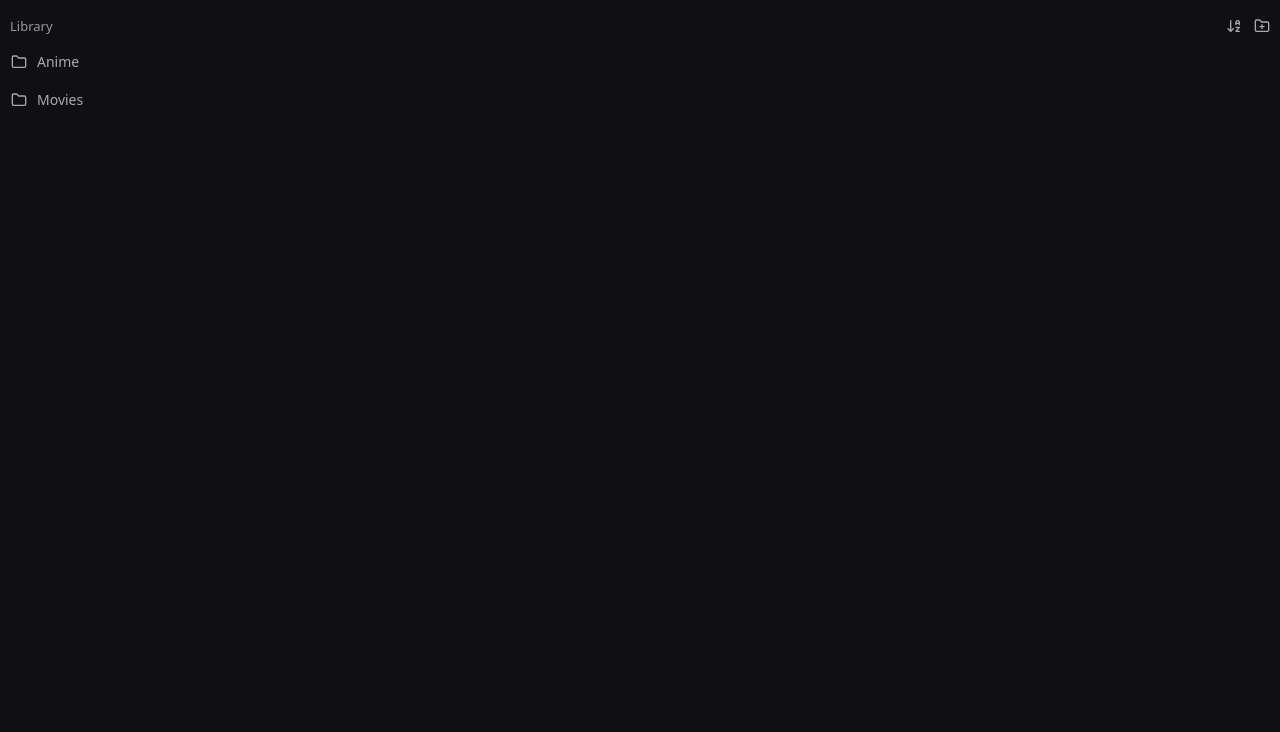
Test: library folder order › puts the folders back when the new order cannot be saved
Right-click the link "Anime".
right_click(45, 62)  # box [11,52,79,71]
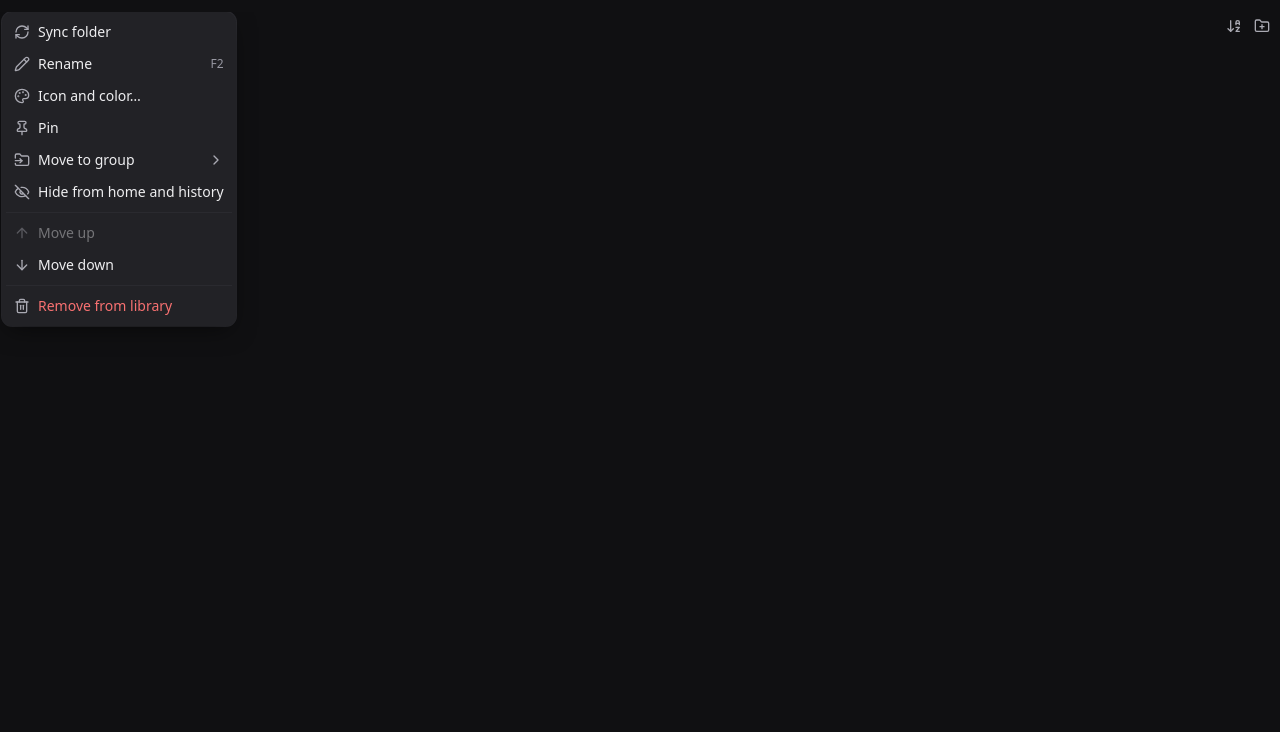
Click the menu item "Move down".
click(64, 264)  # box [14,255,114,274]
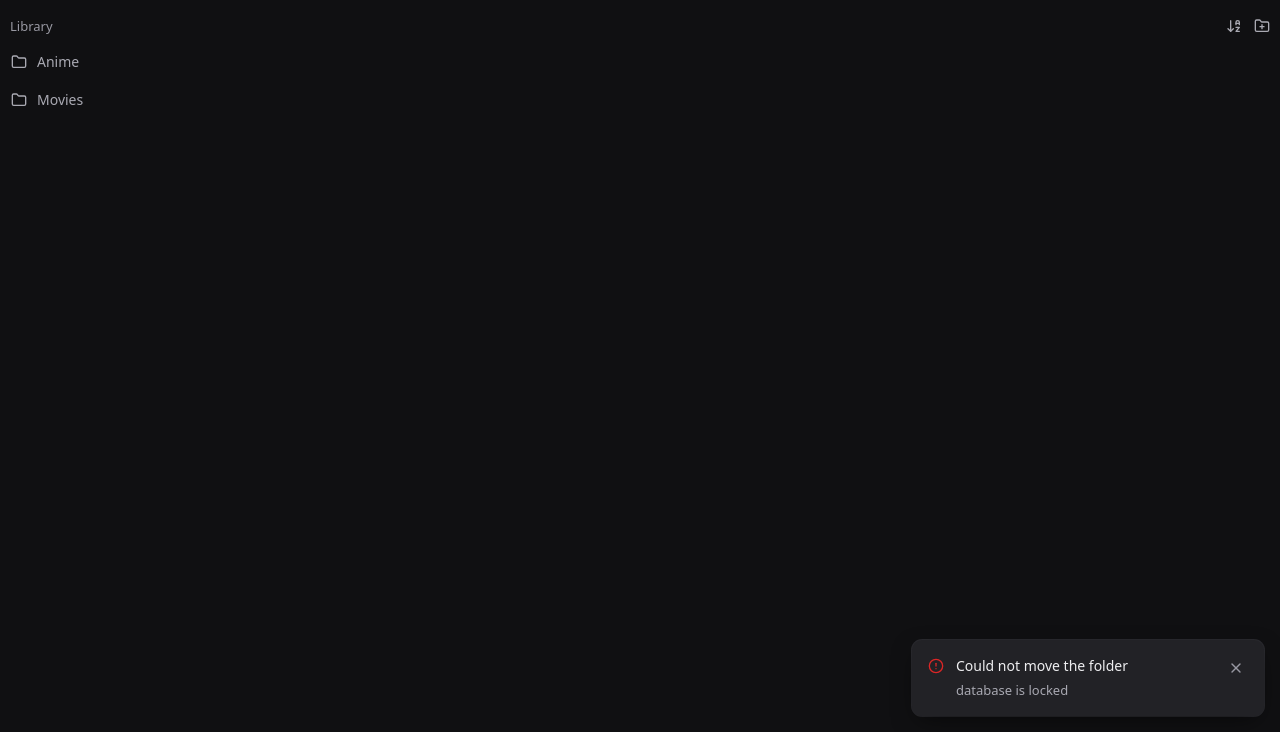
Expected: the button named "Sort folders: Name, A to Z" is shown, [1220,12,1248,40]
Expected: the text "Could not move the folder" is shown, [956,656,1128,675]
